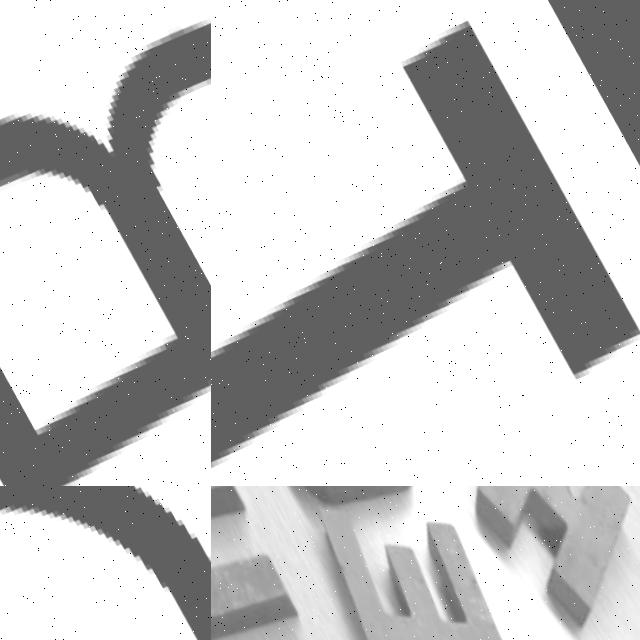B: (0, 10, 211, 486)
E: (288, 486, 541, 640)
K: (404, 486, 640, 640)
T: (211, 0, 640, 486)
U: (211, 486, 311, 640)
